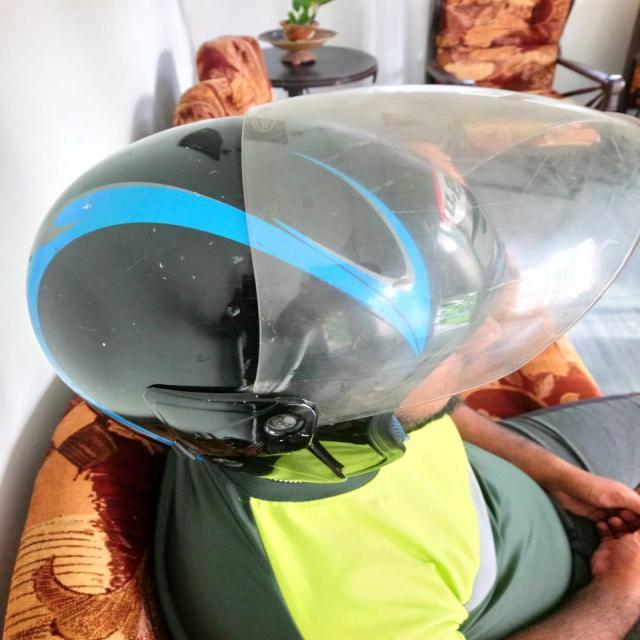helmet: (20, 54, 630, 496)
